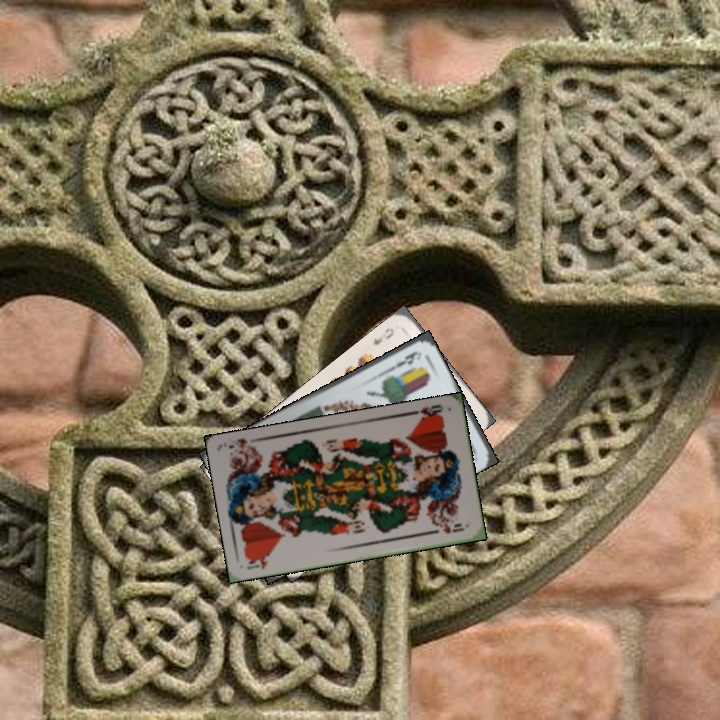E9: (369, 324, 397, 348)
EK: (385, 347, 420, 374)
HO: (407, 400, 447, 423), (242, 551, 272, 572)
